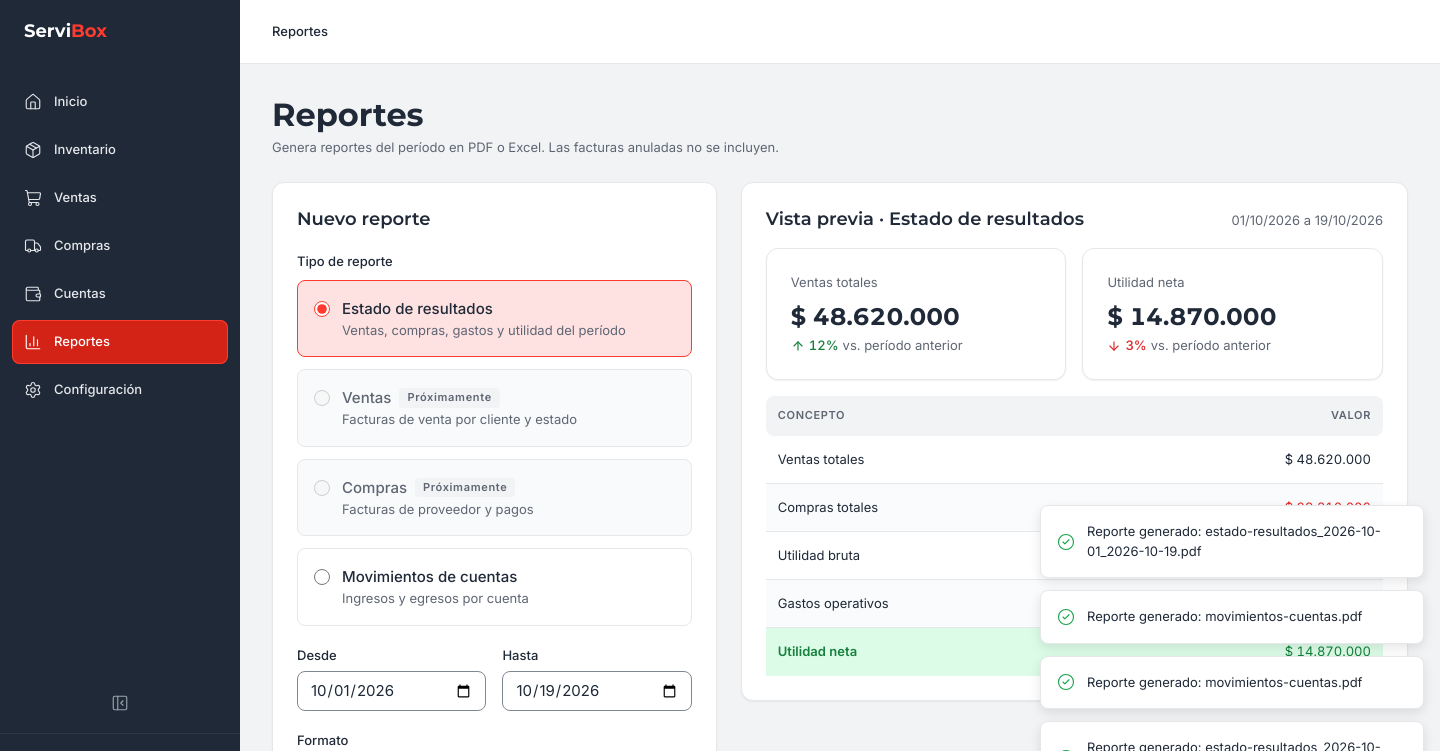
ReportsPage › Ventas y Compras se muestran como Proximamente y no se pueden elegir
Expected: the radio button labelled "Ventas Próximamente Facturas de venta por cliente y estado" is disabled, [314,390,330,406]
Click the label "Ventas Próximamente Facturas de venta por cliente y estado".
click(494, 408)  # box [297,369,692,447]
(page scrolled)
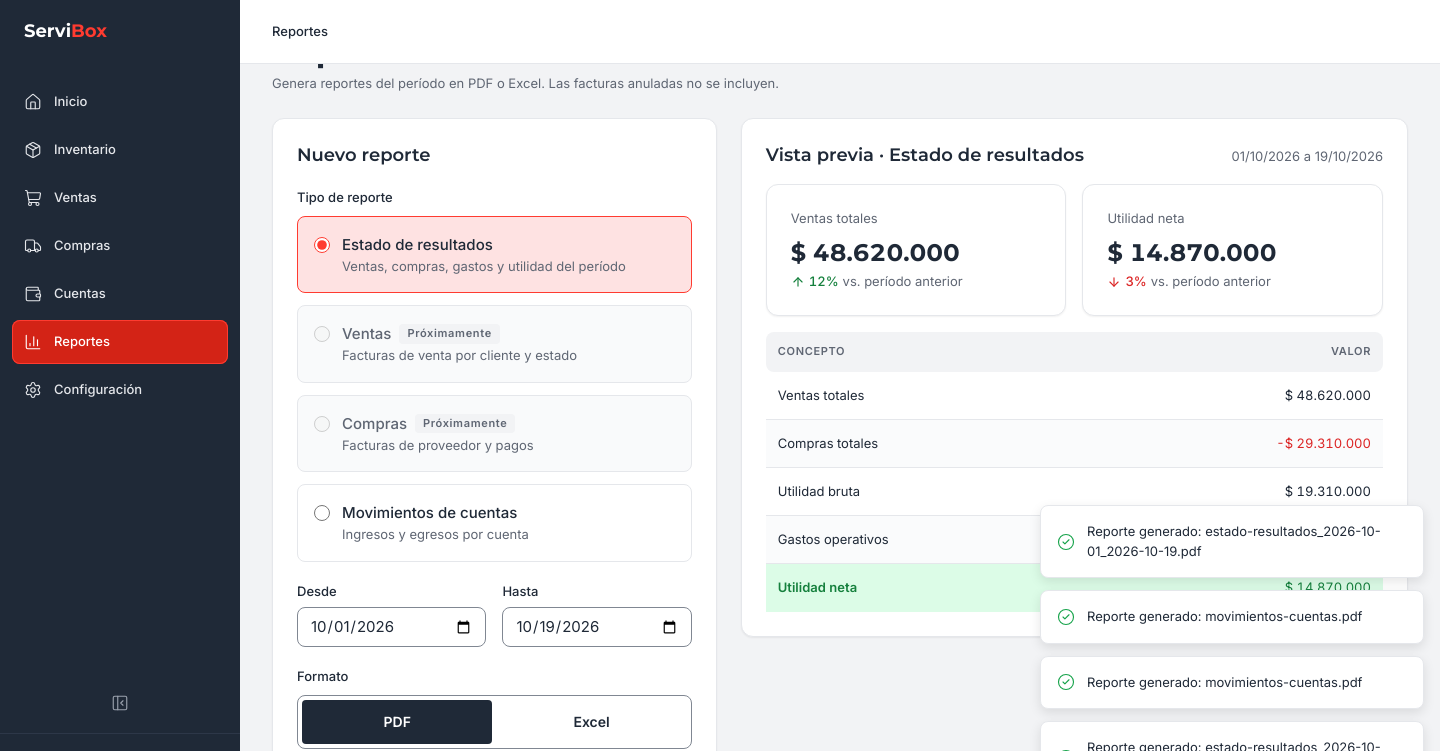
Expected: the radio button labelled "Ventas Próximamente Facturas de venta por cliente y estado" is not checked, [314,326,330,342]
Expected: the radio button labelled "Compras Próximamente Facturas de proveedor y pagos" is disabled, [314,416,330,432]
Click the label "Compras Próximamente Facturas de proveedor y pagos".
click(494, 433)  # box [297,395,692,472]
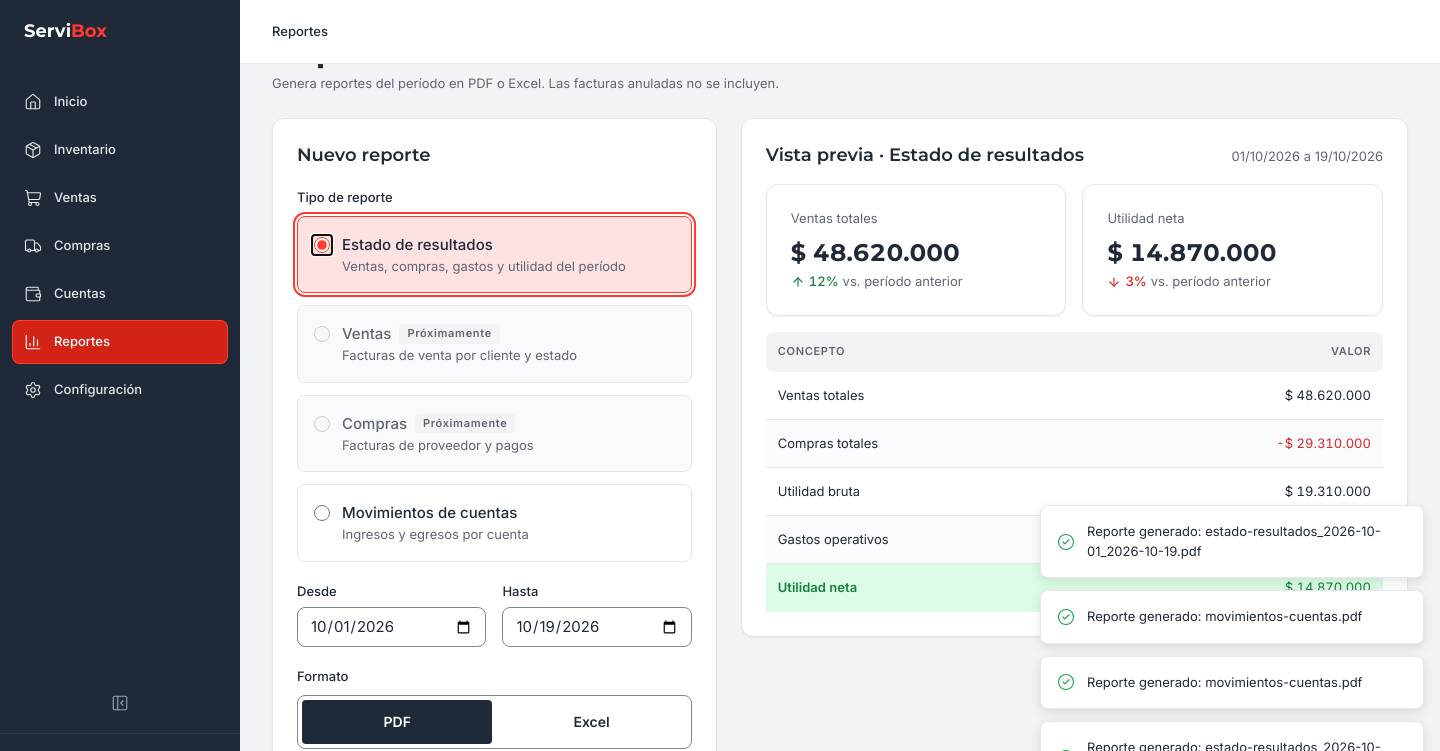
Expected: the radio button labelled "Compras Próximamente Facturas de proveedor y pagos" is not checked, [314,416,330,432]
Expected: the radio button labelled "Estado de resultados" is checked, [314,237,330,253]
Press Arrowdown
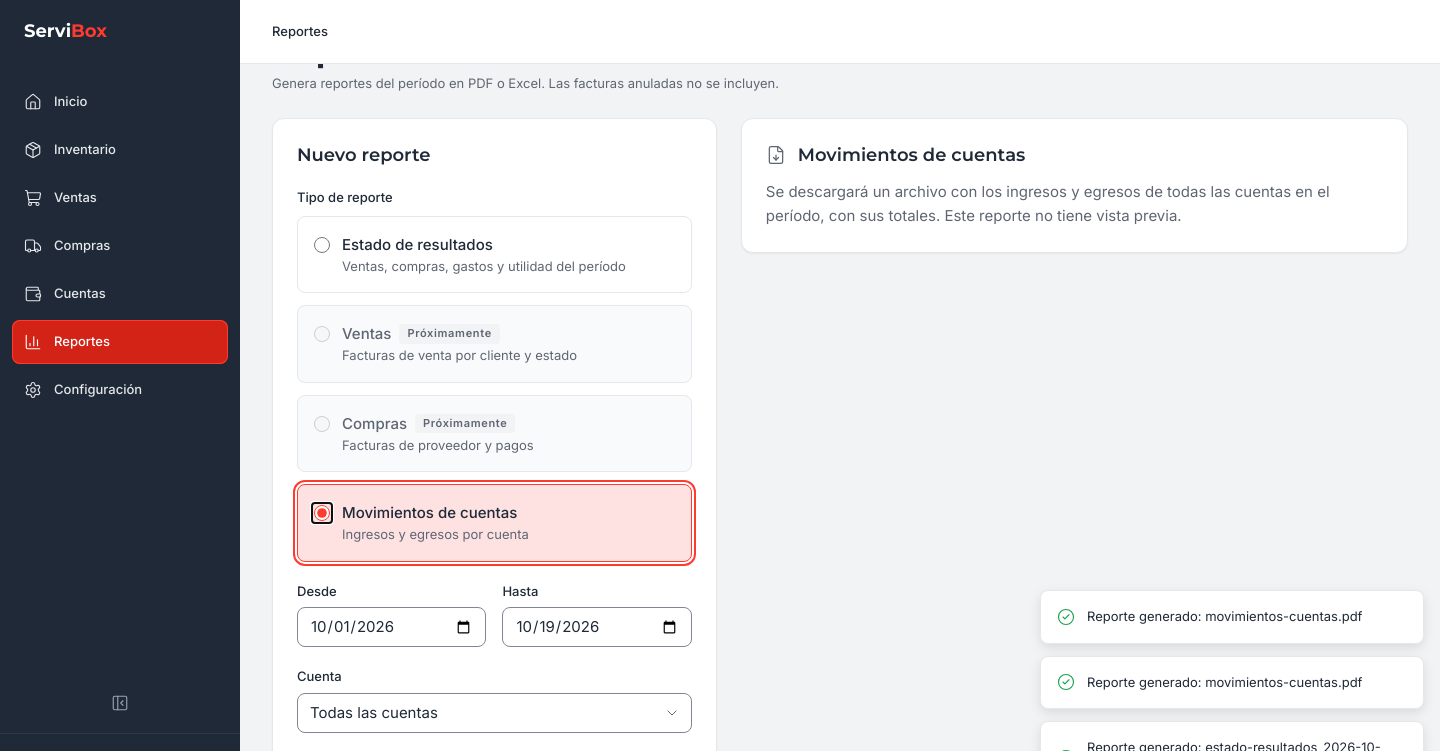
Result: the radio button labelled "Movimientos de cuentas Ingresos y egresos por cuenta" is checked at [314,505,330,521]
